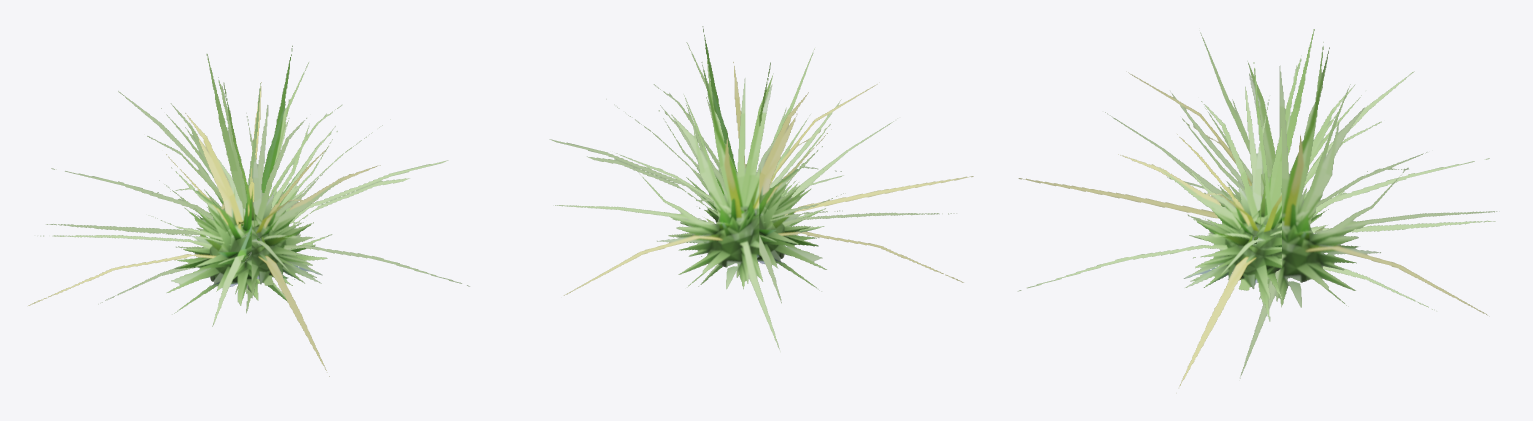
The model's file is caoatgrass-small.glb.
The picture shows the model from 3 angles, left to right: view 1: azimuth 30°, elevation 25°; view 2: azimuth 150°, elevation 25°; view 3: azimuth 270°, elevation 25°; orthographic projection. The views are drawn at different scales.
Parts seen in each view (by area): view 1: caoatsmall; view 2: caoatsmall; view 3: caoatsmall.
Boxes of the visible parts, left/top/right/bottom form: caoatsmall: left=28, top=45, right=469, bottom=376; caoatsmall: left=549, top=26, right=973, bottom=351; caoatsmall: left=1017, top=29, right=1499, bottom=393.
Size of the model in its own units: 0.6209 by 0.4419 by 0.5166.
1 material, 1 textured.
